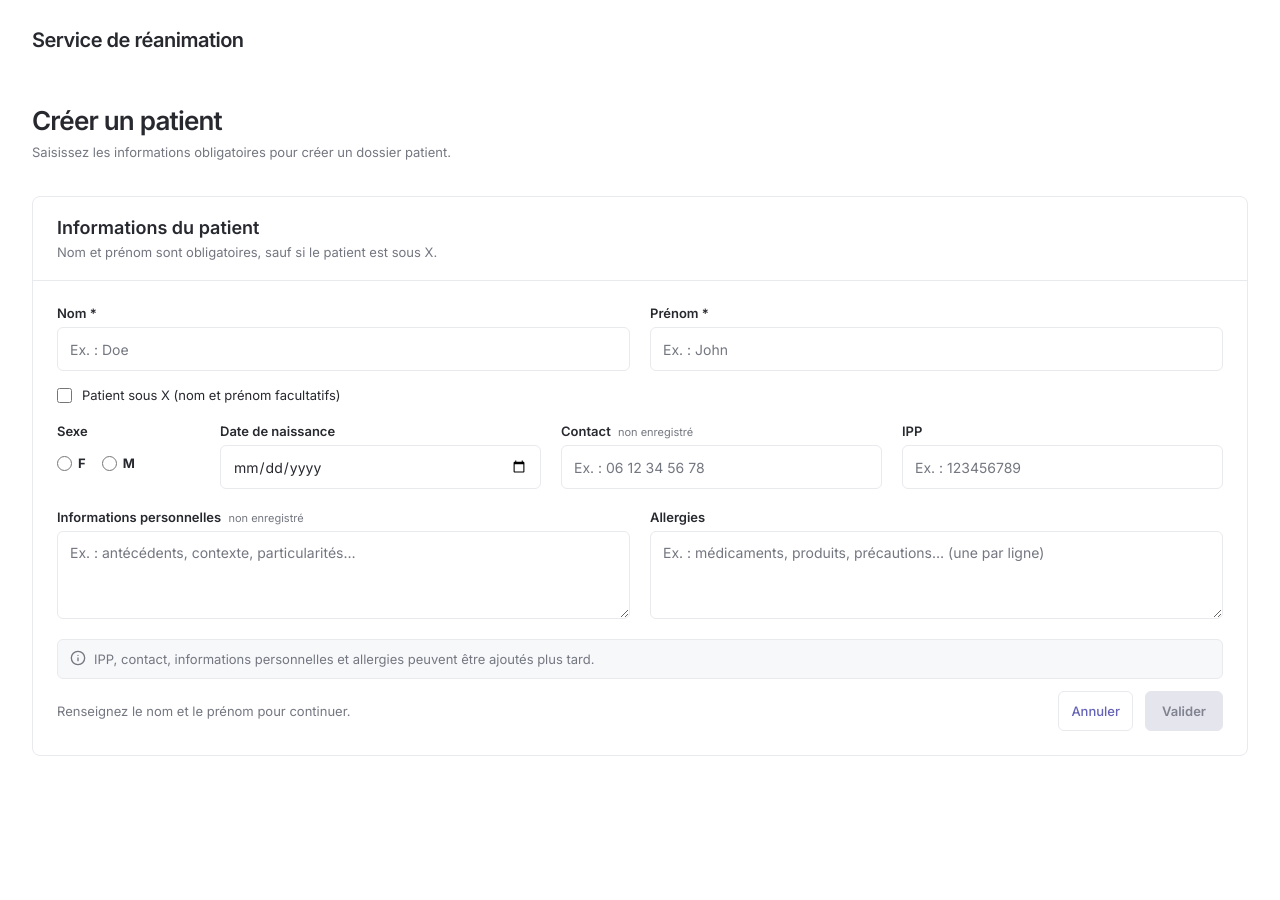
Test case: makes names optional for a "Patient sous X"
The image size is (1280, 900).
Click the checkbox labelled "Patient sous X (nom et prénom facultatifs)" at (64, 395), box [57,388,72,402]
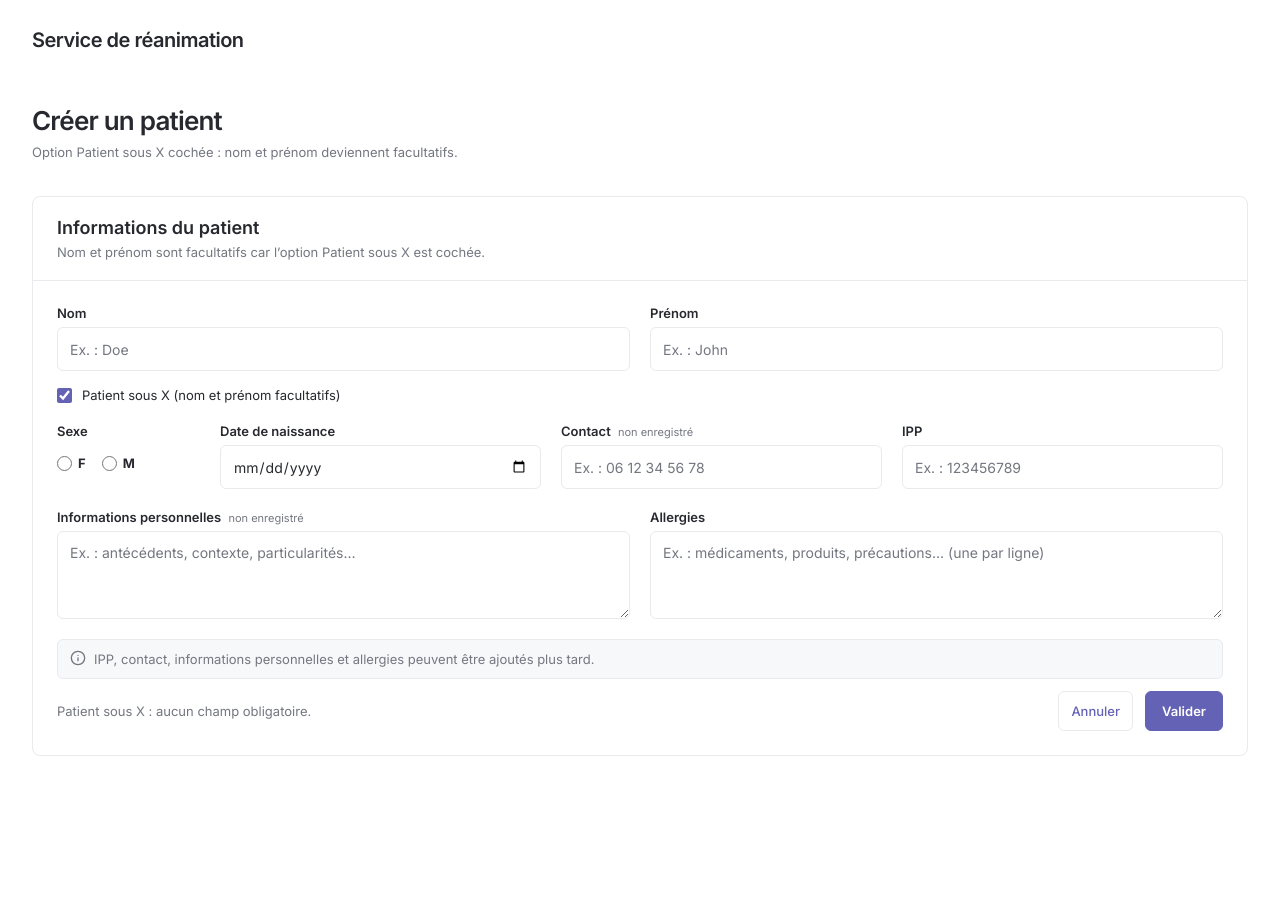
Check: the submit button is enabled, box [1145,691,1223,731]
Check: the text "Patient sous X : aucun champ obligatoire." is shown, box [57,703,311,719]
